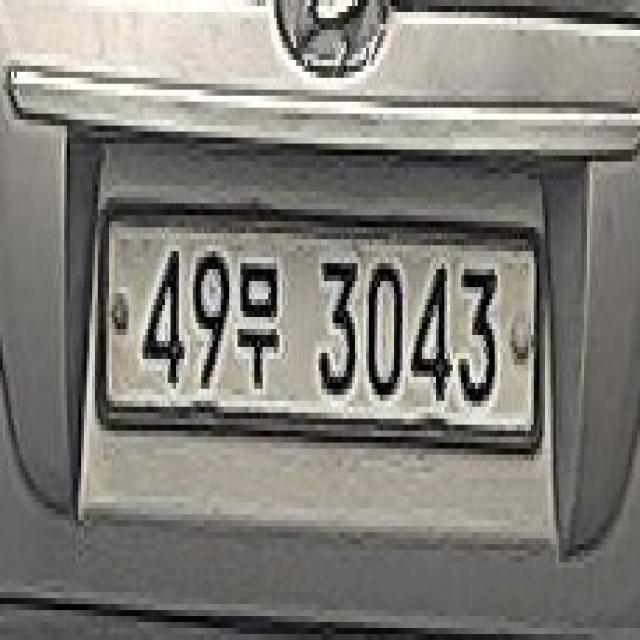0: (366, 260, 409, 400)
3: (458, 258, 506, 417), (317, 249, 363, 403)
4: (142, 236, 186, 390), (412, 259, 455, 405)
9: (192, 242, 231, 388)
license_plate: (99, 196, 550, 469)
mu: (234, 236, 286, 398)
